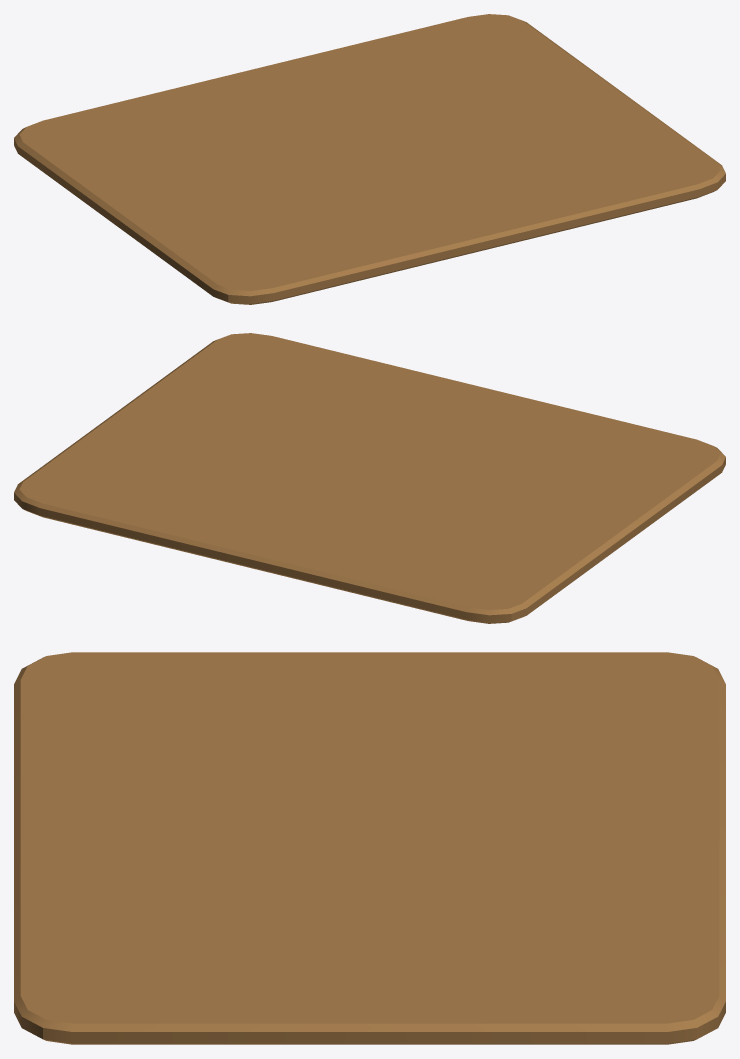
File: cutting board large.fbx
3 renders of one model, top to bottom at view 1: azimuth 30°, elevation 25°; view 2: azimuth 150°, elevation 25°; view 3: azimuth 270°, elevation 25°, orthographic. The views are drawn at different scales.
Visible parts, largest first — view 1: large cutting board; view 2: large cutting board; view 3: large cutting board.
Part boxes in pixels (<box>): large cutting board: <box>14,14,725,304</box>; large cutting board: <box>14,333,725,623</box>; large cutting board: <box>14,652,725,1044</box>.
Size of the model in its own units: 63.82 by 1.66 by 50.73.
